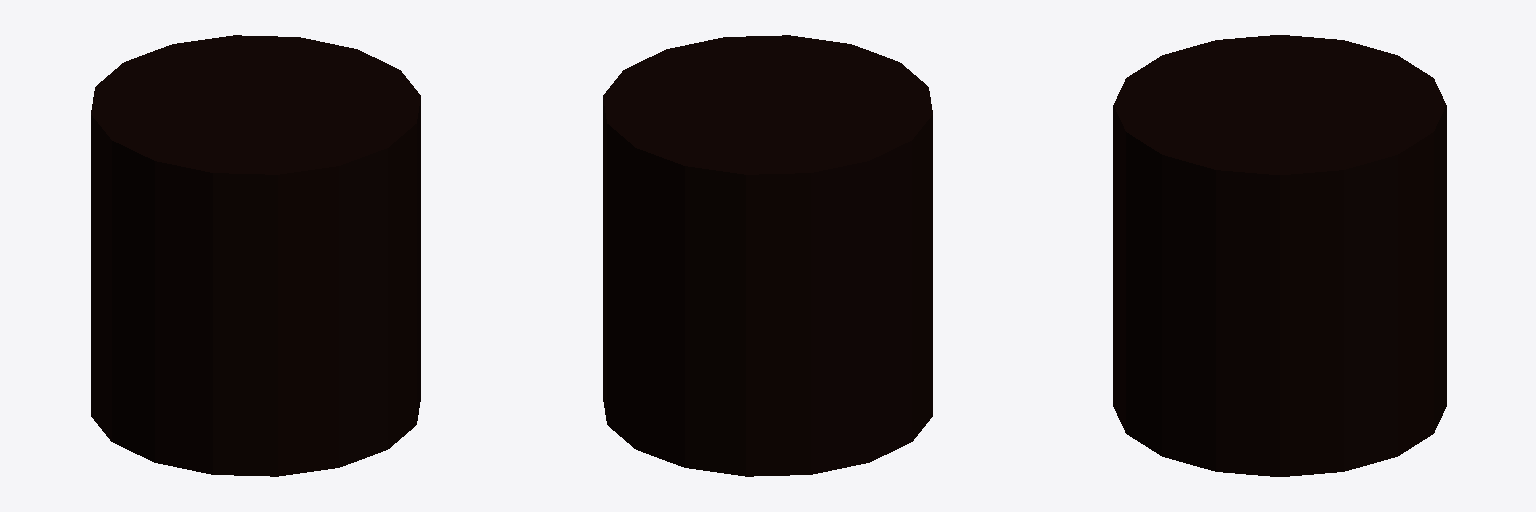
File: cylinder_tree-root.obj
3 renders of one model, left to right at view 1: azimuth 30°, elevation 25°; view 2: azimuth 150°, elevation 25°; view 3: azimuth 270°, elevation 25°, orthographic.
Parts seen in each view (by area): view 1: Cylinder; view 2: Cylinder; view 3: Cylinder.
Boxes of the visible parts, box(x1,y1,x2,y2) form: Cylinder: box(91, 35, 420, 476); Cylinder: box(603, 35, 932, 476); Cylinder: box(1113, 35, 1446, 476).
Size of the model in its own units: 2 by 2 by 2.